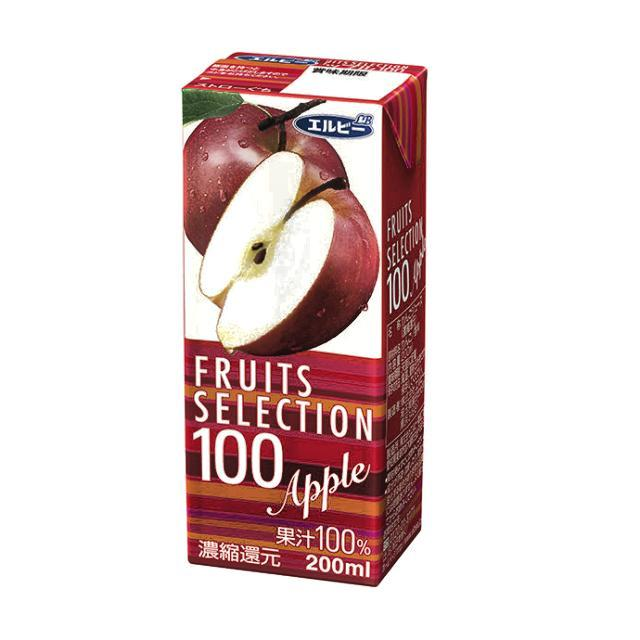cardboard: (181, 50, 427, 587)
